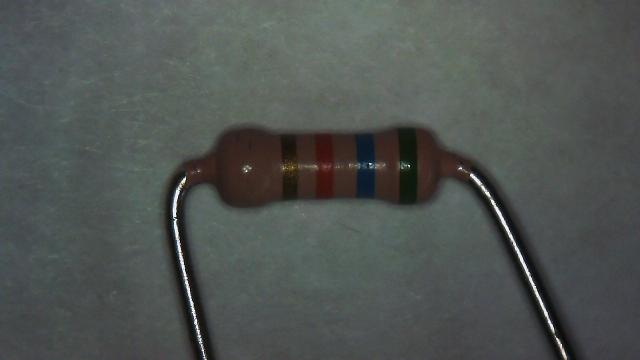blue: (356, 134, 376, 196)
gold: (280, 134, 298, 198)
green: (398, 126, 418, 204)
orange: (315, 134, 334, 197)
resistor: (186, 114, 462, 221)
